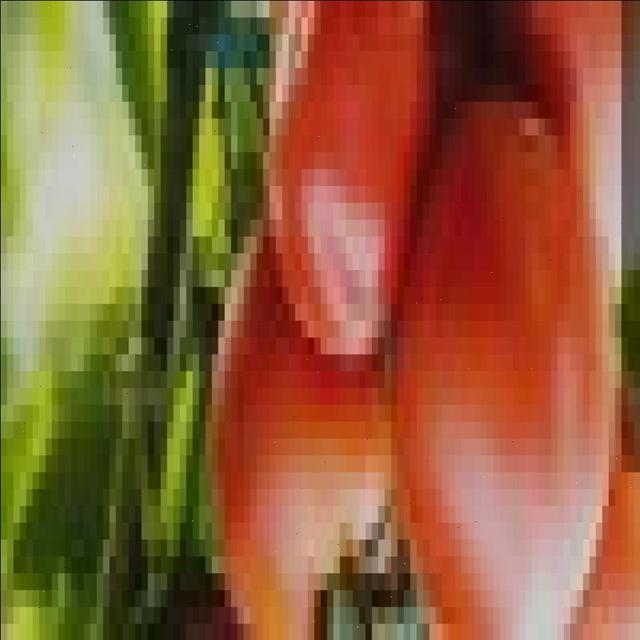Healthy Fruit: (126, 203, 340, 343)
